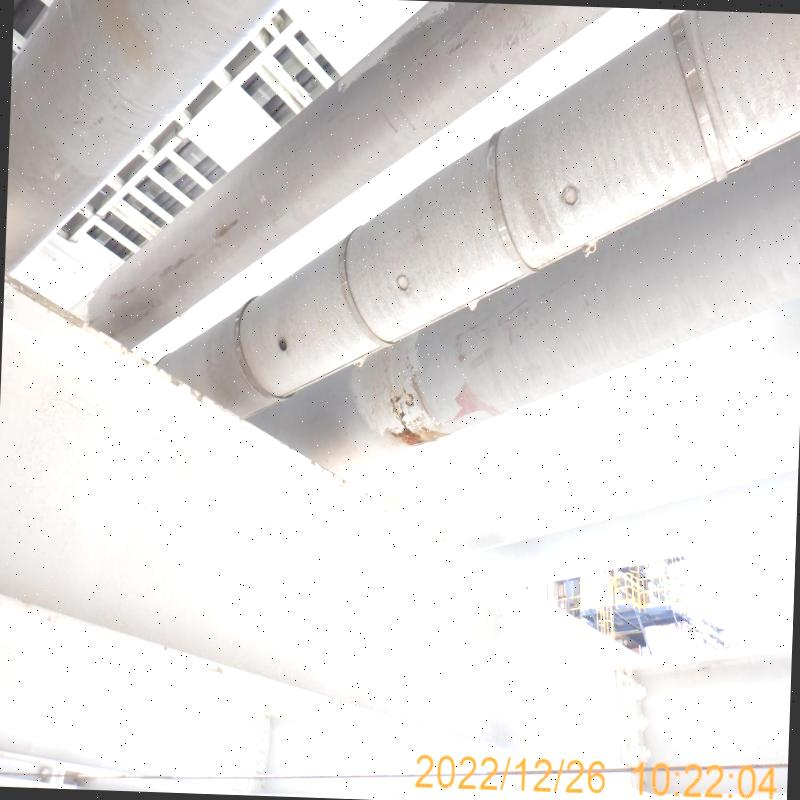corrosion: (390, 414, 437, 450)
